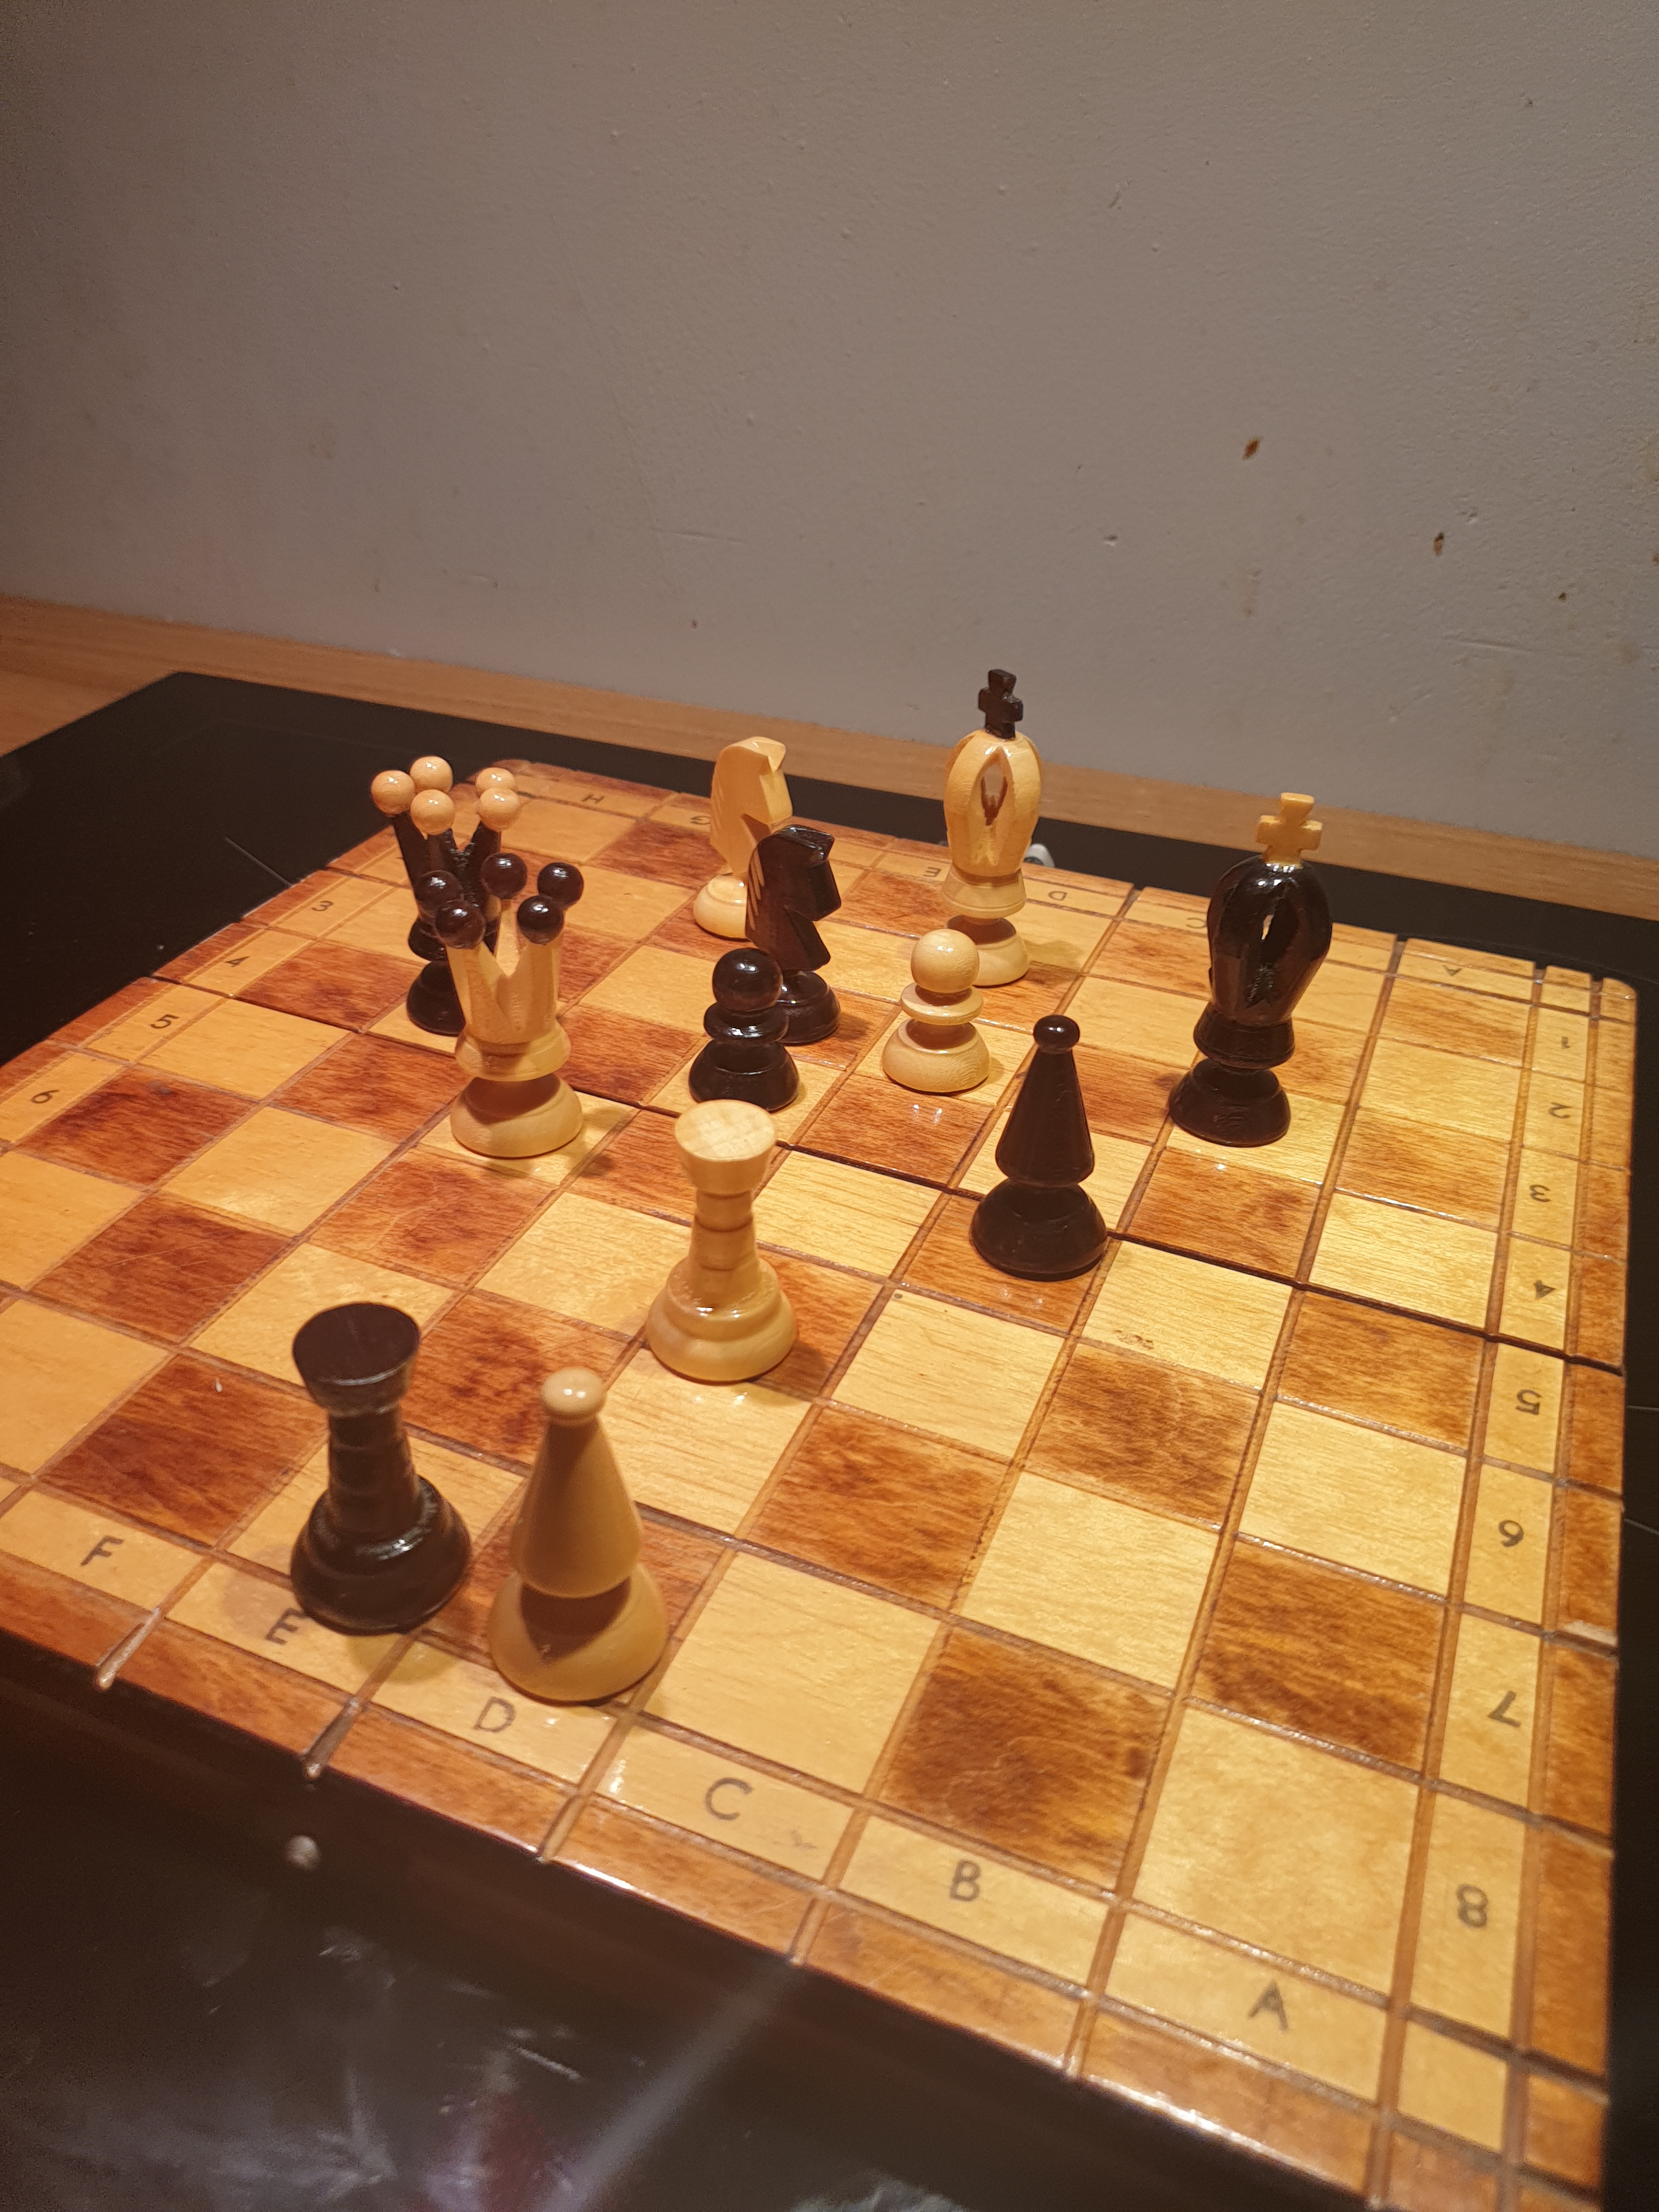bbishop: (958, 1003, 1129, 1294)
bking: (1159, 777, 1352, 1162)
bknight: (737, 820, 852, 1049)
bpawn: (676, 928, 823, 1139)
bqueen: (369, 742, 552, 1049)
brook: (275, 1292, 488, 1646)
wbishop: (476, 1355, 681, 1717)
wking: (917, 651, 1047, 991)
wknight: (690, 725, 802, 946)
wpawn: (875, 918, 1012, 1104)
wqueen: (408, 841, 627, 1167)
wrook: (631, 1092, 809, 1404)
